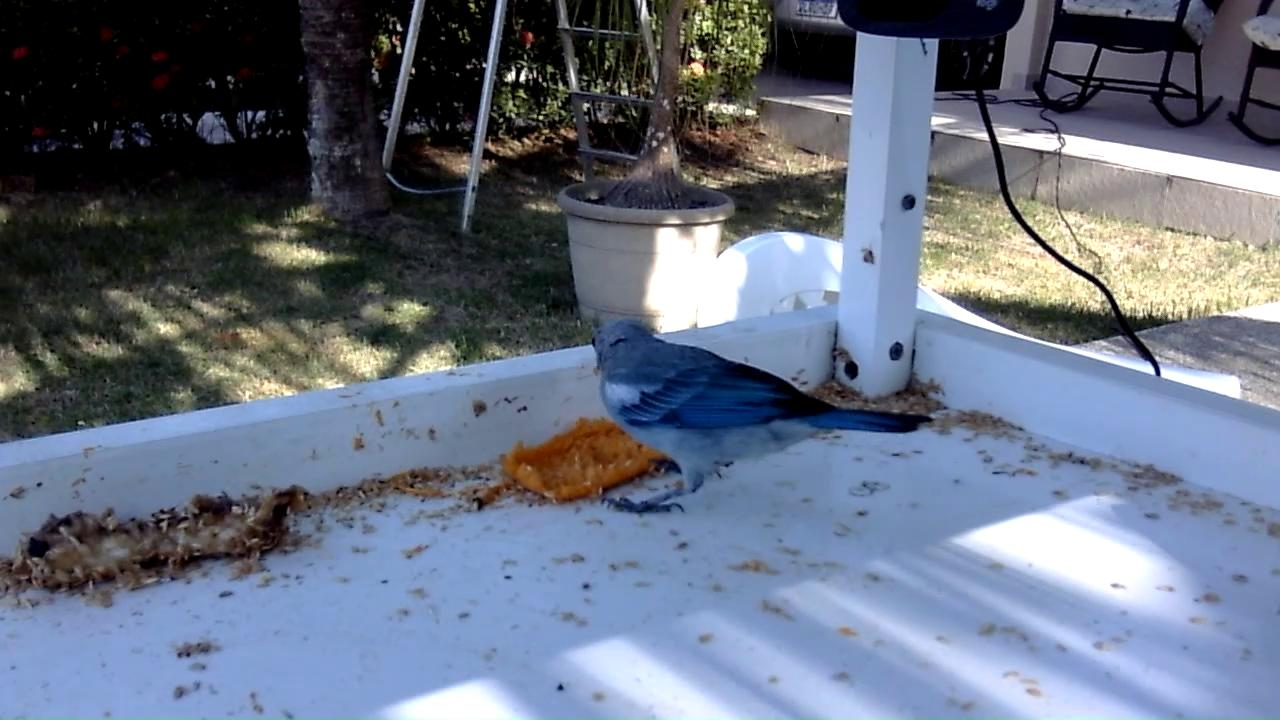sanhaco_da_amazonia: (590, 320, 938, 522)
